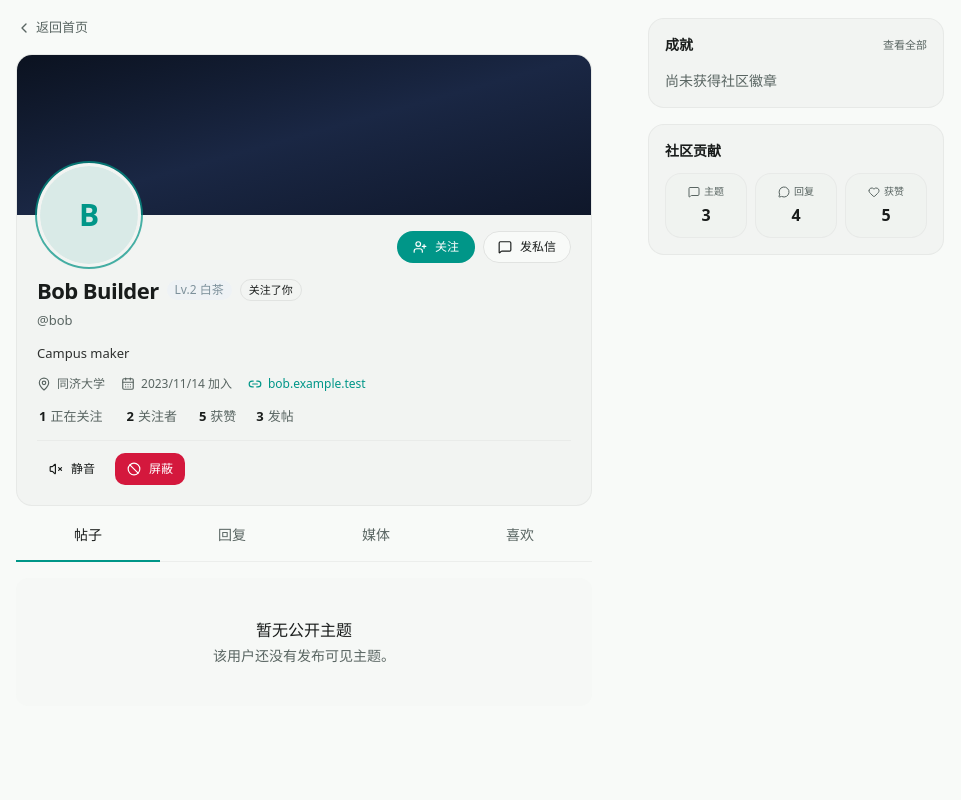
Scenario: ProfilePage social relationships › loads real media and likes and bookmarks visible content
expect the heading "Bob Builder" is shown: met, box [37, 279, 159, 301]
What coordinates should you click on to do the following:
click the tab "媒体"
I would click on:
 (376, 542)
Its box is [304, 522, 448, 562].
(page scrolled)
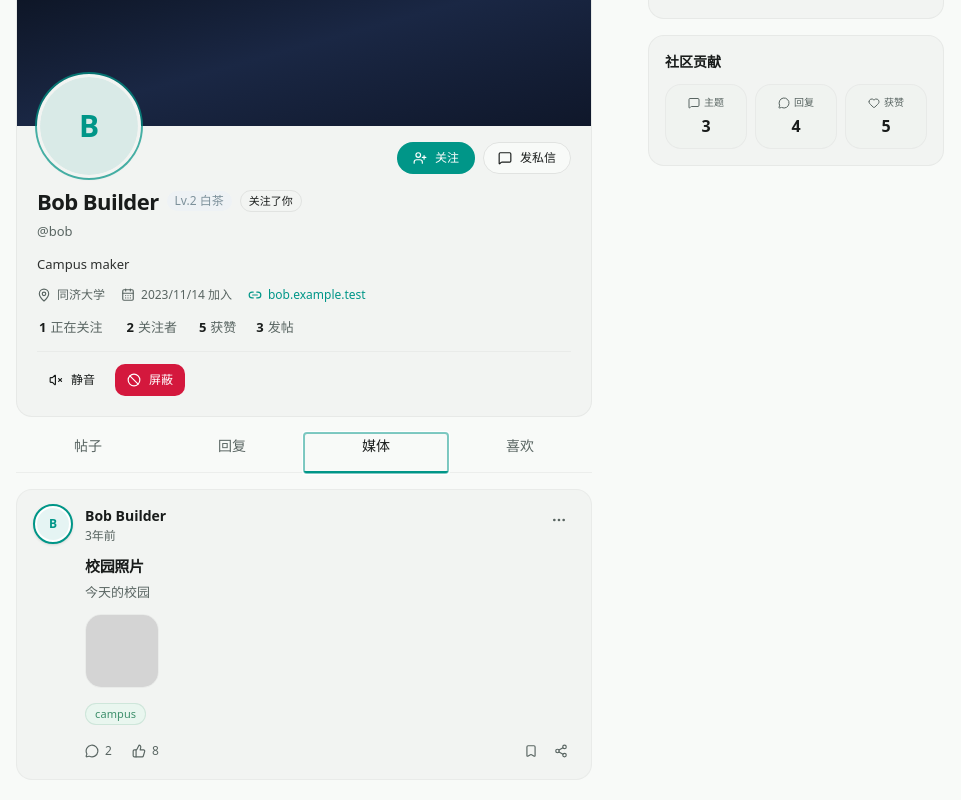
expect the heading "校园照片" is shown: met, box [85, 556, 144, 576]
What coordinates should you click on to do the following:
click the button named "收藏"
I would click on:
 (531, 751)
Its box is [517, 737, 545, 765].
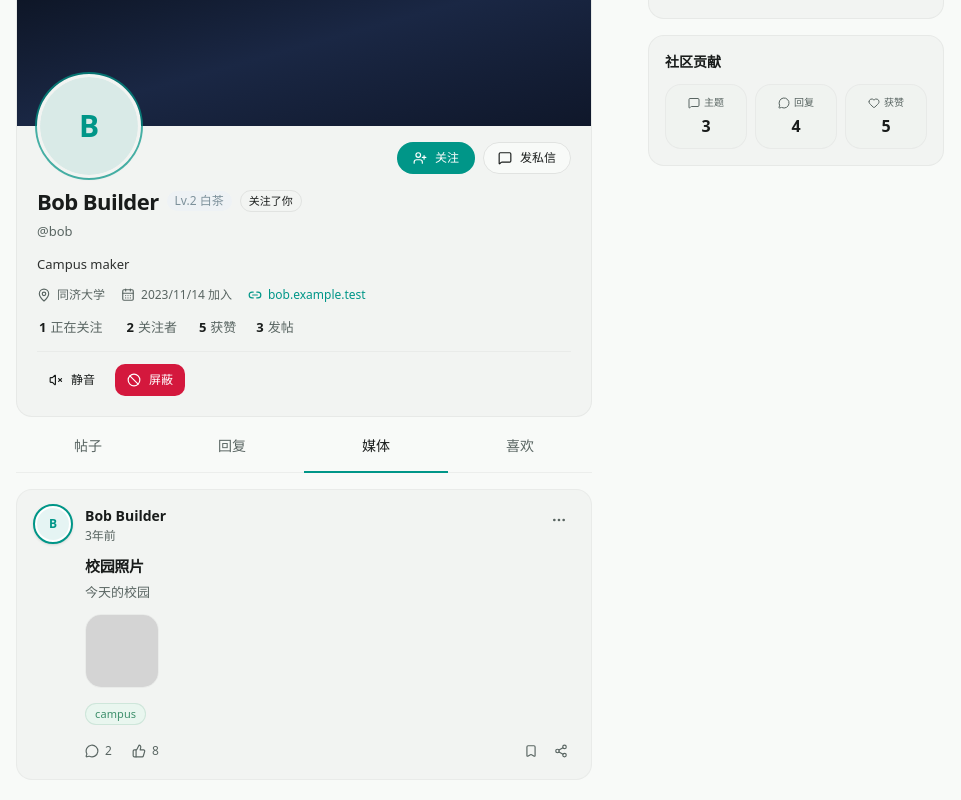
What coordinates should you click on to do the following:
click the tab "喜欢"
I would click on:
 (520, 453)
Its box is [448, 433, 592, 473].
(page scrolled)
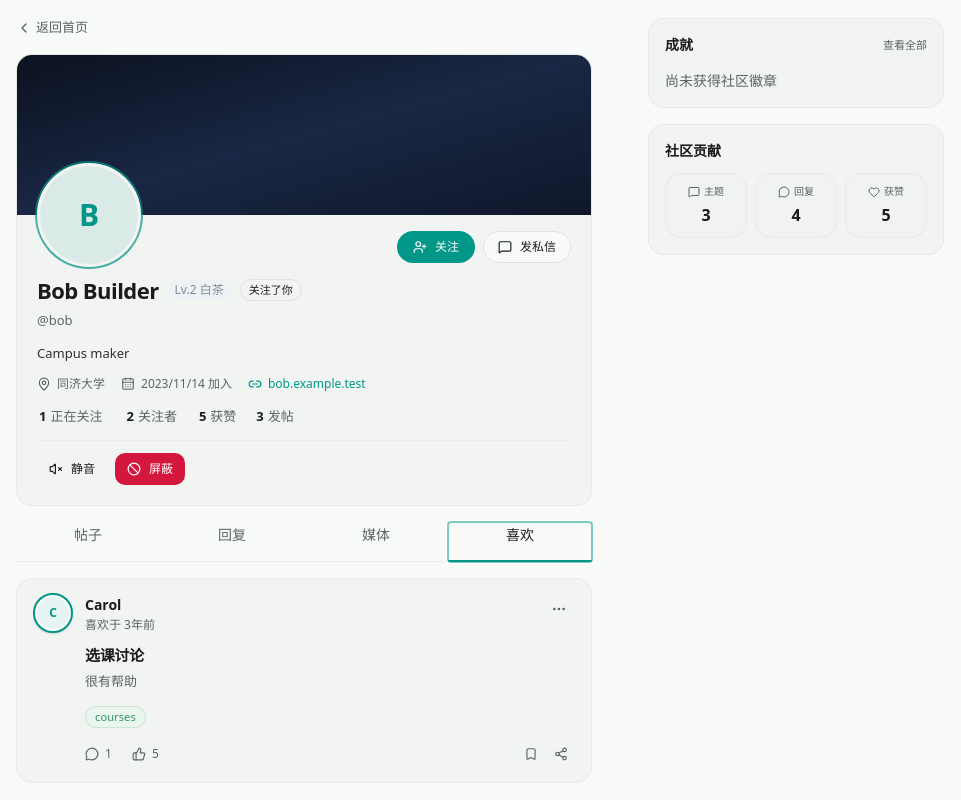
expect the heading "选课讨论" is shown: met, box [85, 645, 144, 665]
expect the element named "5 个赞" is shown: met, box [132, 745, 159, 763]
